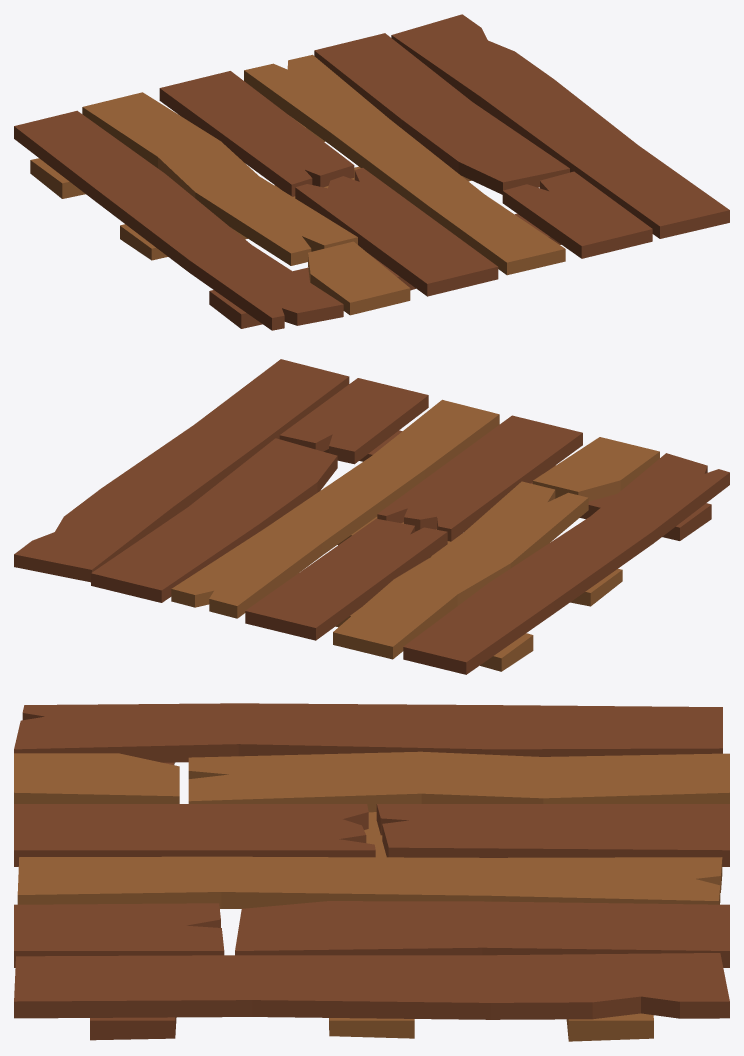
File: LP_PostApoc_WoodenPlatform.fbx
The picture shows the model from 3 angles, top to bottom: view 1: azimuth 30°, elevation 25°; view 2: azimuth 150°, elevation 25°; view 3: azimuth 270°, elevation 25°; orthographic projection. The views are drawn at different scales.
Visible parts, largest first — view 1: WoodenPlatform; view 2: WoodenPlatform; view 3: WoodenPlatform.
Part boxes in pixels (x1,y1,x2,y2): WoodenPlatform: [14, 14, 729, 330]; WoodenPlatform: [14, 359, 729, 674]; WoodenPlatform: [14, 703, 729, 1041].
Size of the model in its own units: 200 by 13.47 by 200.
